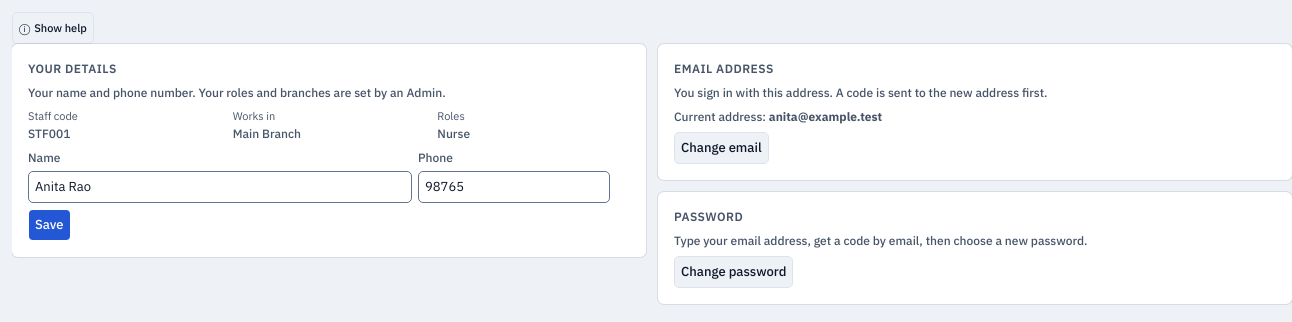
Test case: name and phone › names the problem when the API refuses
Clear the field labelled "Name" at point(220, 186), box x1=28 y1=170 x2=412 y2=202
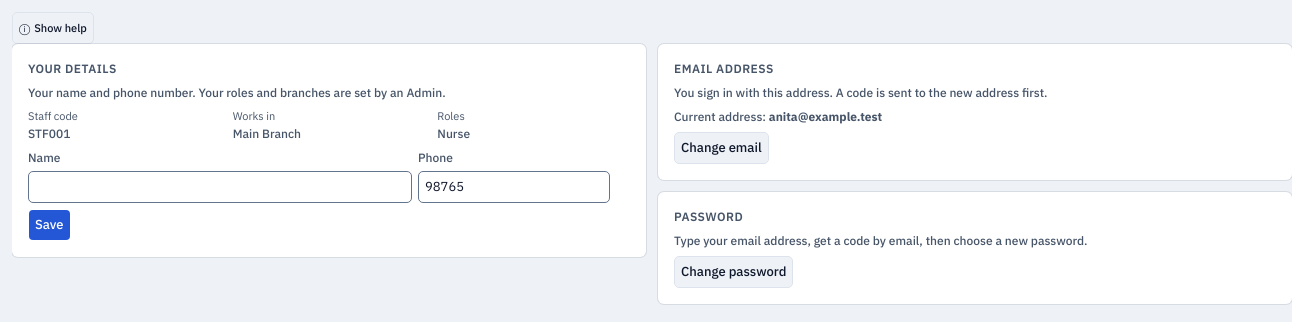
Click the button "Save" at point(49, 224), box x1=28 y1=208 x2=71 y2=240
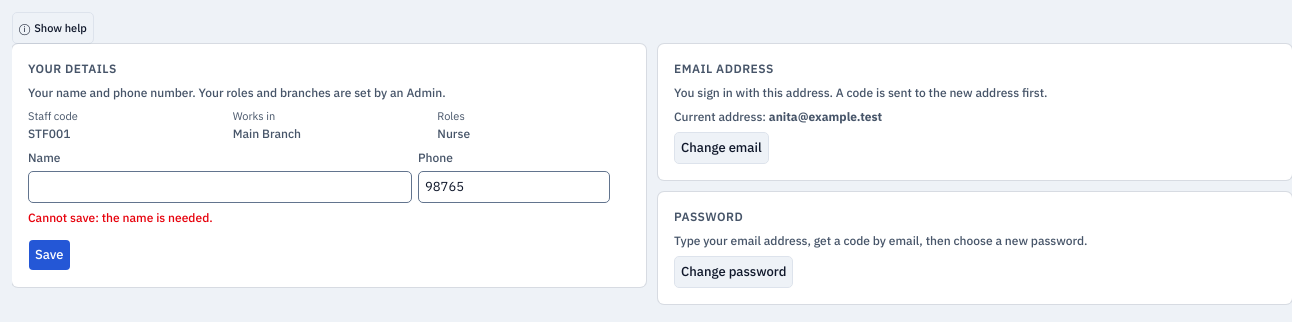
Result: the message shows "the name" at x1=28 y1=210 x2=213 y2=224
